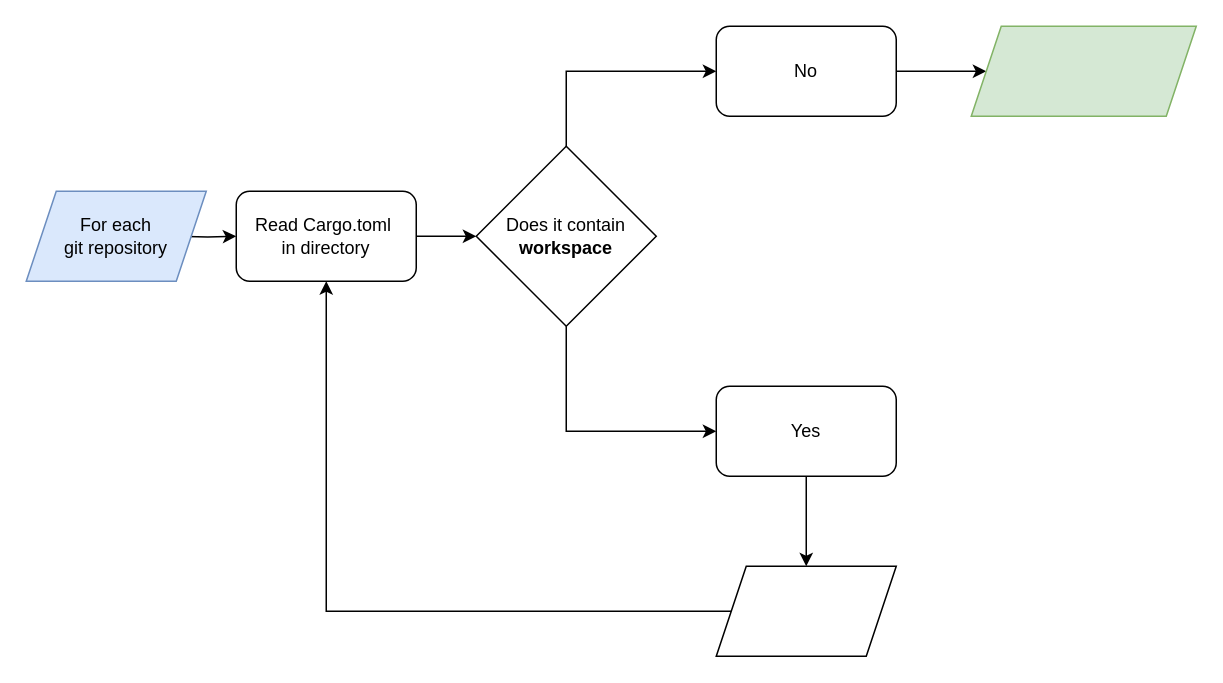
Some shapes in this 1223 by 683 pixel diagram are drawn without their labels. Here are the shapes that lost their labels. From the top down, the box of each, then its label:
(970, 25, 1196, 116): Add to crates list
(715, 565, 896, 656): For each entry in workspace
